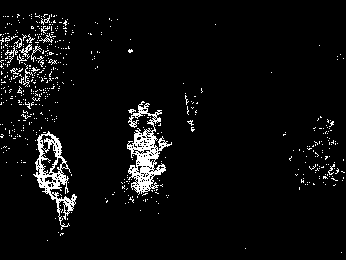person: (34, 131, 78, 229), (180, 76, 207, 133)
